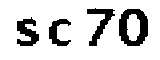0: (116, 5, 152, 50)
7: (78, 6, 115, 48)
c: (46, 16, 74, 48)
s: (13, 17, 41, 50)
